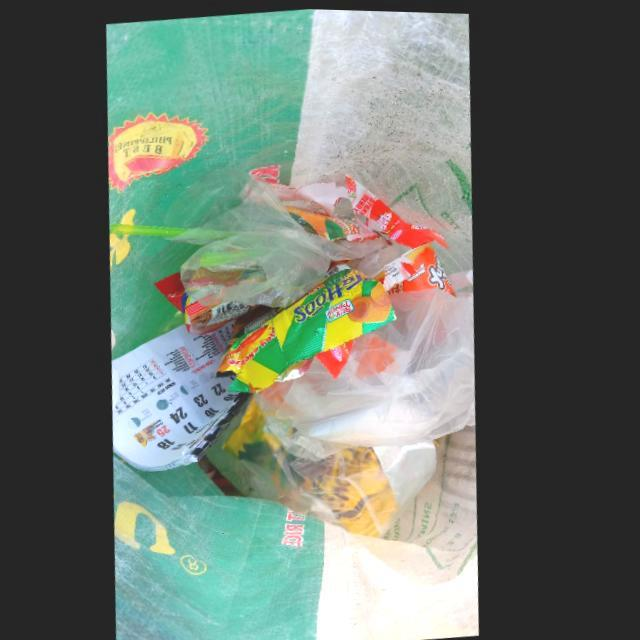food_wrapper: (222, 262, 401, 392), (348, 174, 453, 247), (158, 271, 254, 333), (375, 240, 460, 294)
paper: (117, 320, 256, 470)
plastic_bag: (267, 285, 482, 444), (176, 174, 390, 306)
